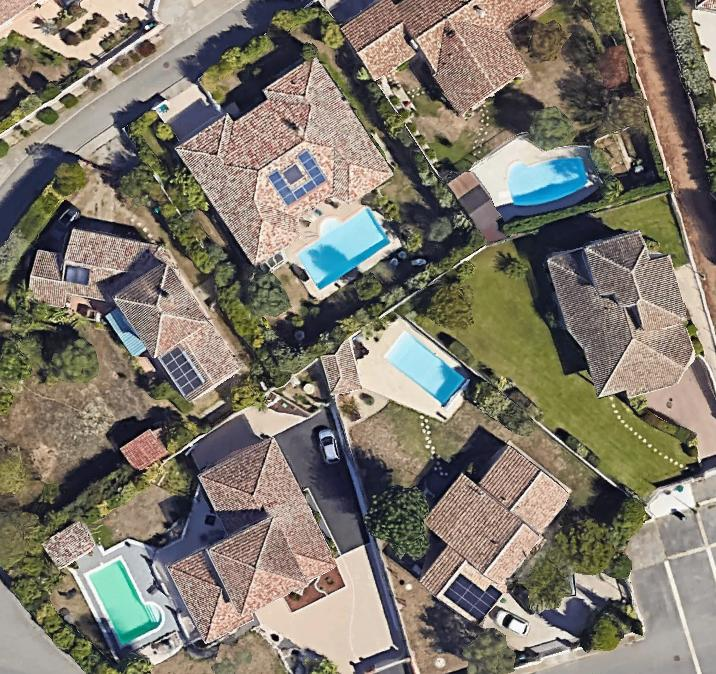maison: (13, 194, 273, 415), (174, 53, 396, 269), (132, 433, 342, 645), (393, 432, 576, 628), (546, 223, 704, 409), (343, 0, 548, 116)
